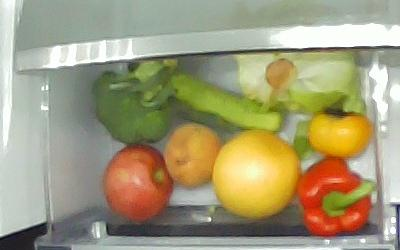apple: (101, 146, 172, 222)
broccoli: (91, 53, 177, 144)
cucumber: (165, 71, 282, 134)
grapefruit: (212, 129, 300, 217)
lettuce: (231, 49, 357, 113)
paprika: (299, 156, 376, 237)
peach: (164, 123, 223, 188)
persimmon: (308, 107, 372, 158)
